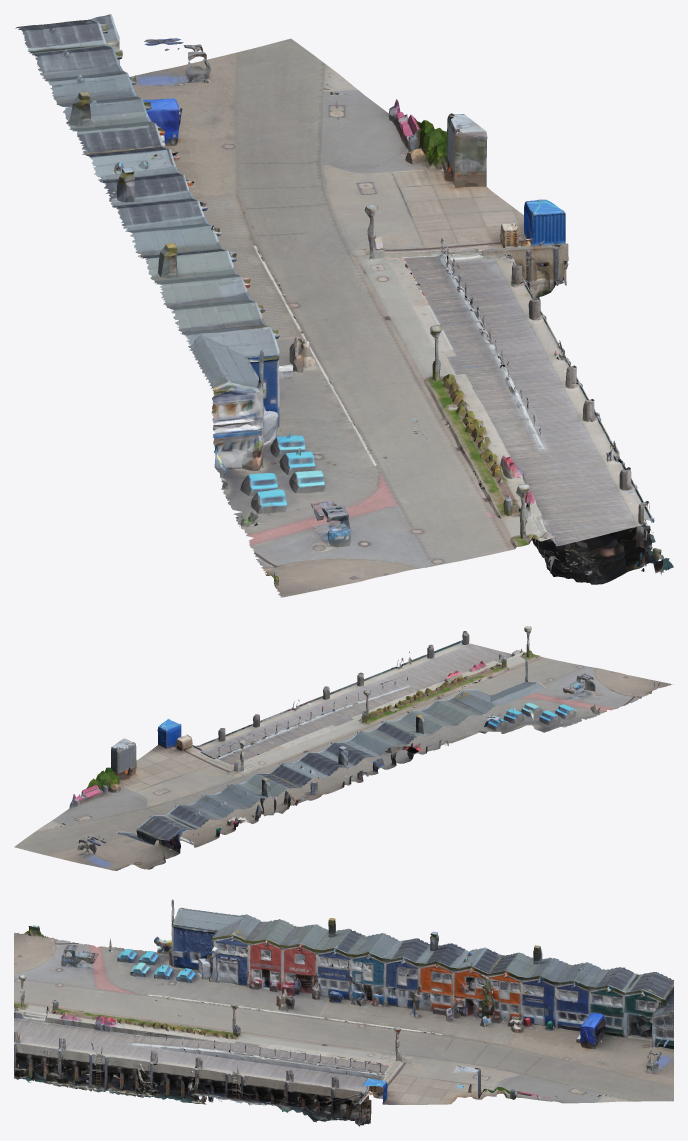
3 renders of one model, top to bottom at view 1: azimuth 30°, elevation 25°; view 2: azimuth 150°, elevation 25°; view 3: azimuth 270°, elevation 25°, orthographic. The views are drawn at different scales.
Bounding box in the file's own units: 39.41 × 12.62 × 66.85.
Materials: 2 (2 with a texture image).
